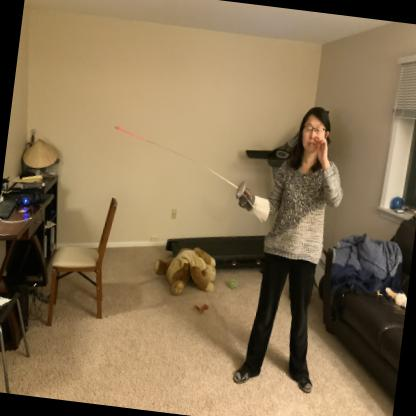foil-tip: (110, 120, 129, 145)
hand-and-foil: (98, 112, 278, 222)
